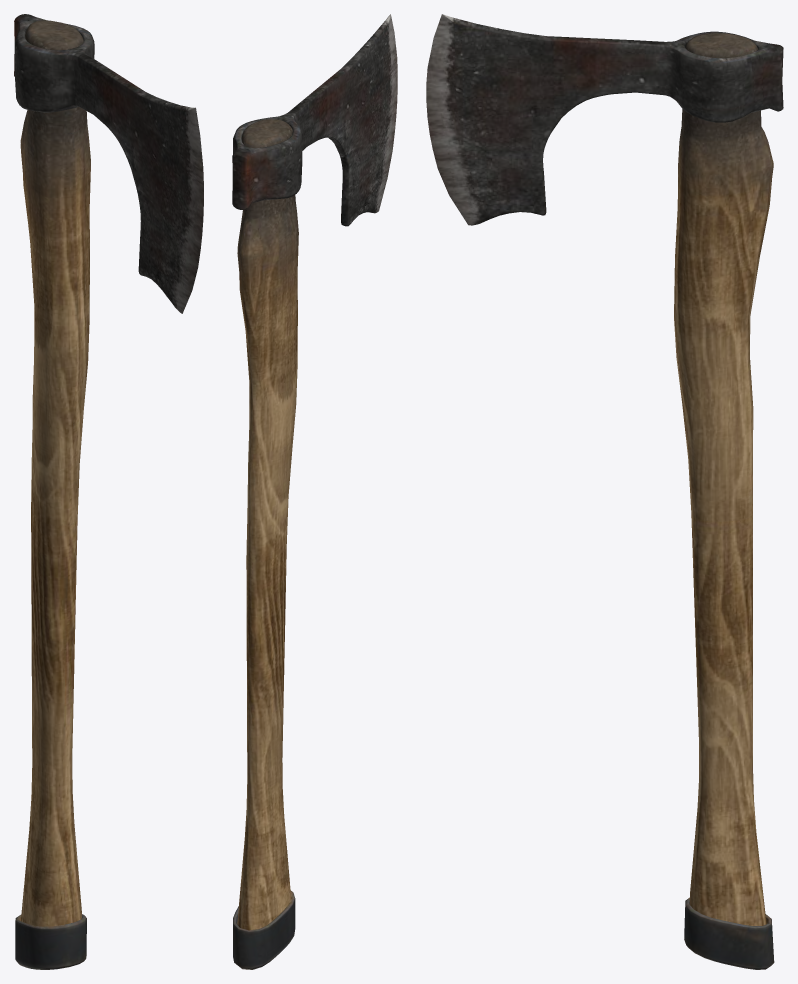
Rendered from wooden_axe.glb.
The picture shows the model from 3 angles, left to right: view 1: azimuth 30°, elevation 25°; view 2: azimuth 150°, elevation 25°; view 3: azimuth 270°, elevation 25°; orthographic projection. The views are drawn at different scales.
Visible parts, largest first — view 1: wooden_axe; view 2: wooden_axe; view 3: wooden_axe.
Boxes of the visible parts, x1=… form: wooden_axe: x1=14, y1=14, x2=203, y2=969; wooden_axe: x1=232, y1=14, x2=397, y2=969; wooden_axe: x1=426, y1=14, x2=783, y2=969.
Size of the model in its own units: 0.0472 by 0.6303 by 0.2143.
1 material, 1 textured.
